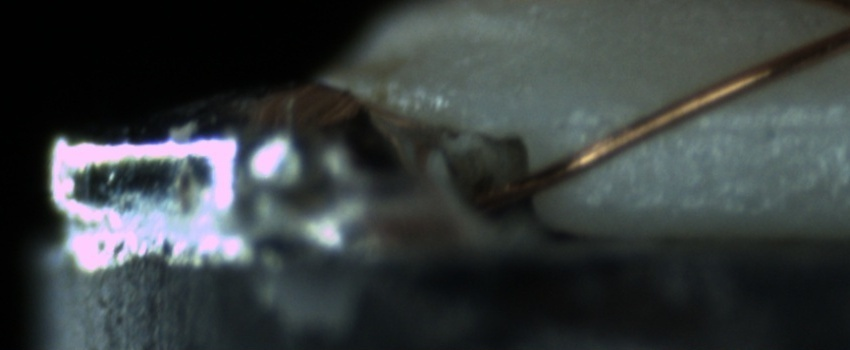DL: (628, 87, 850, 159)
